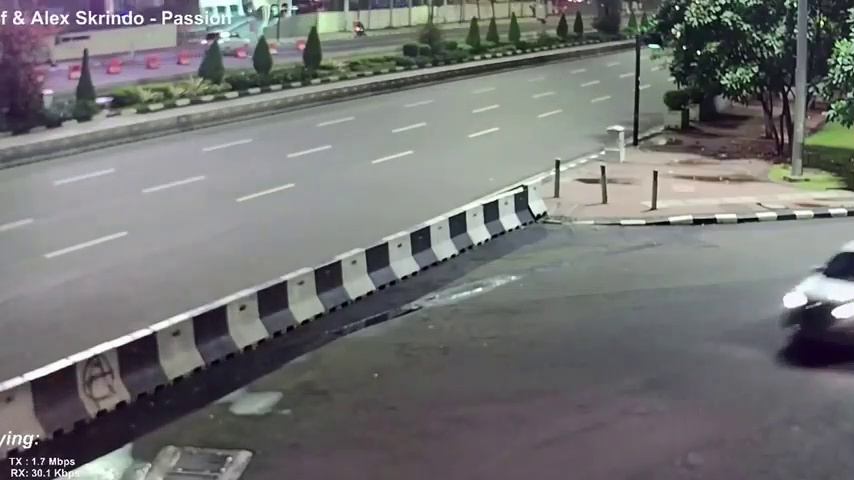car: (779, 238, 854, 342)
